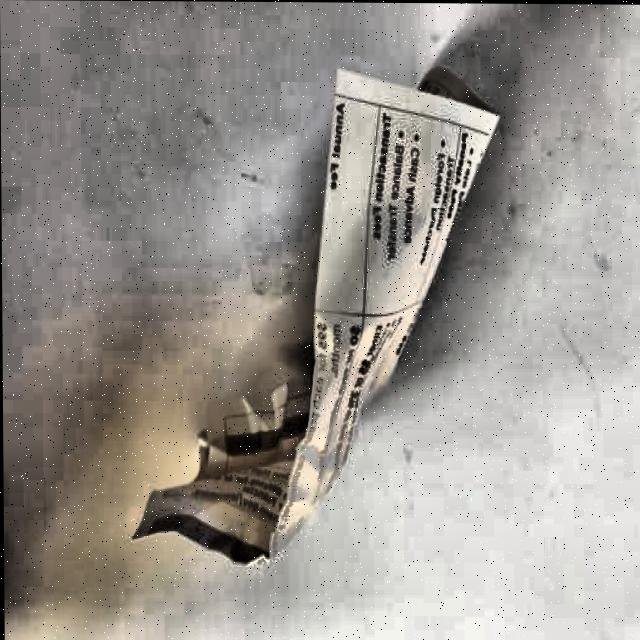paper: (124, 57, 508, 567)
